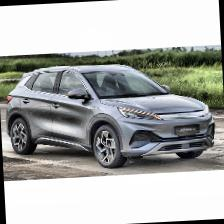EV: (4, 56, 219, 176)
